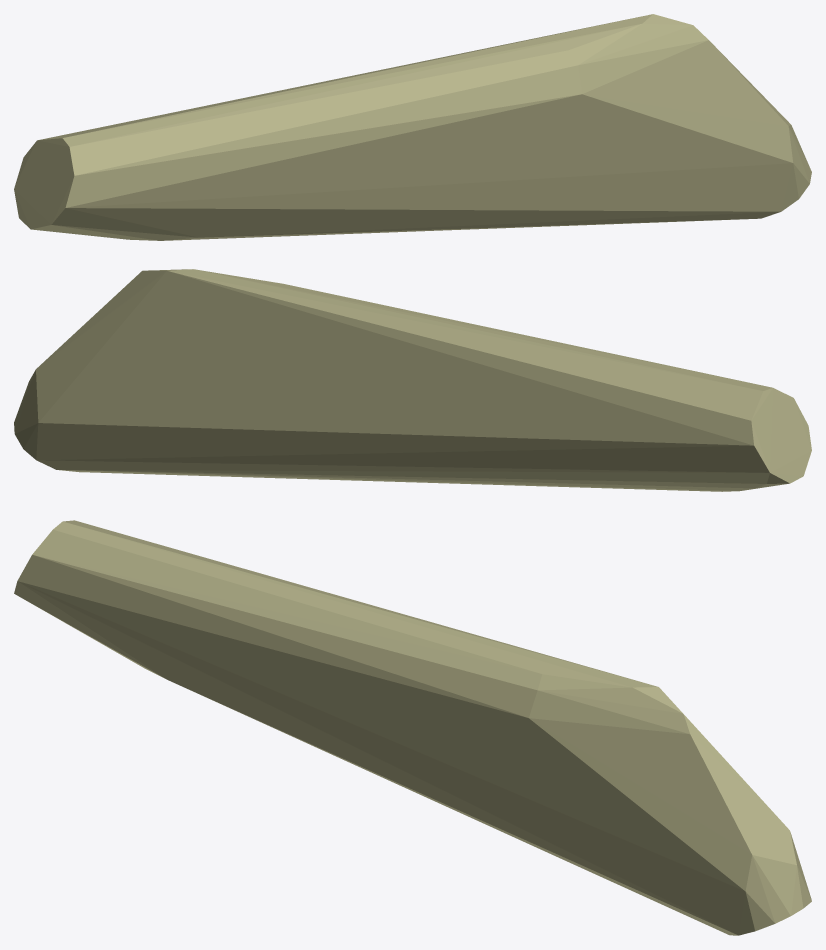
The model's file is consumable_hose_hydraulic_a01.glb.
The picture shows the model from 3 angles, top to bottom: view 1: azimuth 30°, elevation 25°; view 2: azimuth 150°, elevation 25°; view 3: azimuth 330°, elevation 25°; orthographic projection.
Visible parts, largest first — view 1: geometry_0; view 2: geometry_0; view 3: geometry_0.
Part boxes in pixels (box(x1,y1,x2,y2)): geometry_0: box(14, 14, 811, 240); geometry_0: box(14, 269, 811, 491); geometry_0: box(14, 520, 811, 935).
Size of the model in its own units: 0.4796 by 0.1415 by 0.0559.
